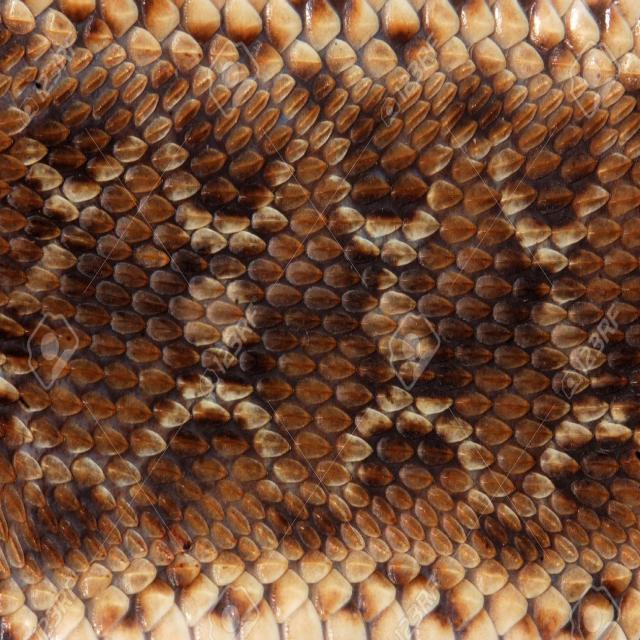Snake: (1, 0, 639, 639)
